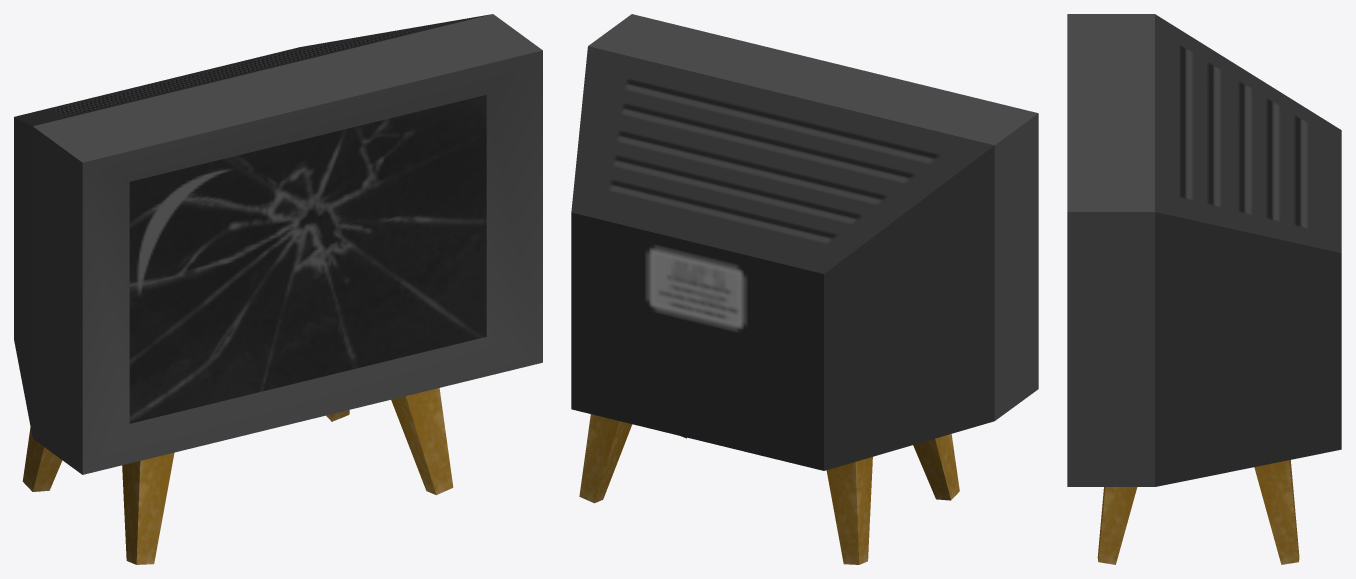
3 renders of one model, left to right at view 1: azimuth 30°, elevation 25°; view 2: azimuth 150°, elevation 25°; view 3: azimuth 270°, elevation 25°, orthographic. The views are drawn at different scales.
Parts seen in each view (by area): view 1: tv; view 2: tv; view 3: tv.
Part boxes in pixels (left/top/right/bottom): tv: left=14, top=14, right=542, bottom=564; tv: left=571, top=14, right=1038, bottom=564; tv: left=1067, top=14, right=1341, bottom=564.
Bounding box in the file's own units: 98.8 × 90 × 57.88.
